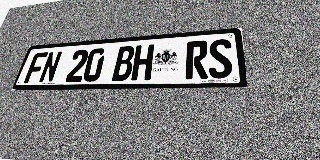0: (82, 48, 106, 82)
2: (65, 49, 90, 82)
B: (111, 46, 136, 81)
F: (23, 52, 48, 83)
H: (131, 44, 154, 81)
N: (38, 51, 63, 83)
R: (185, 40, 208, 79)
S: (209, 38, 233, 79)
